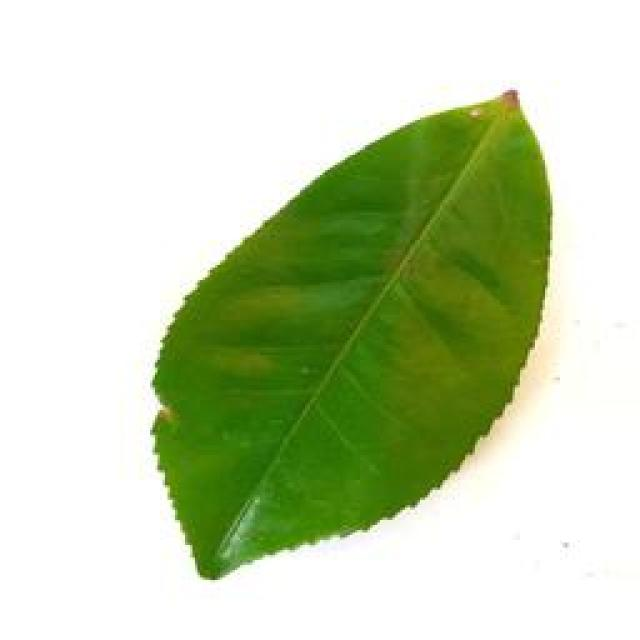Healthy: (145, 81, 541, 582)
